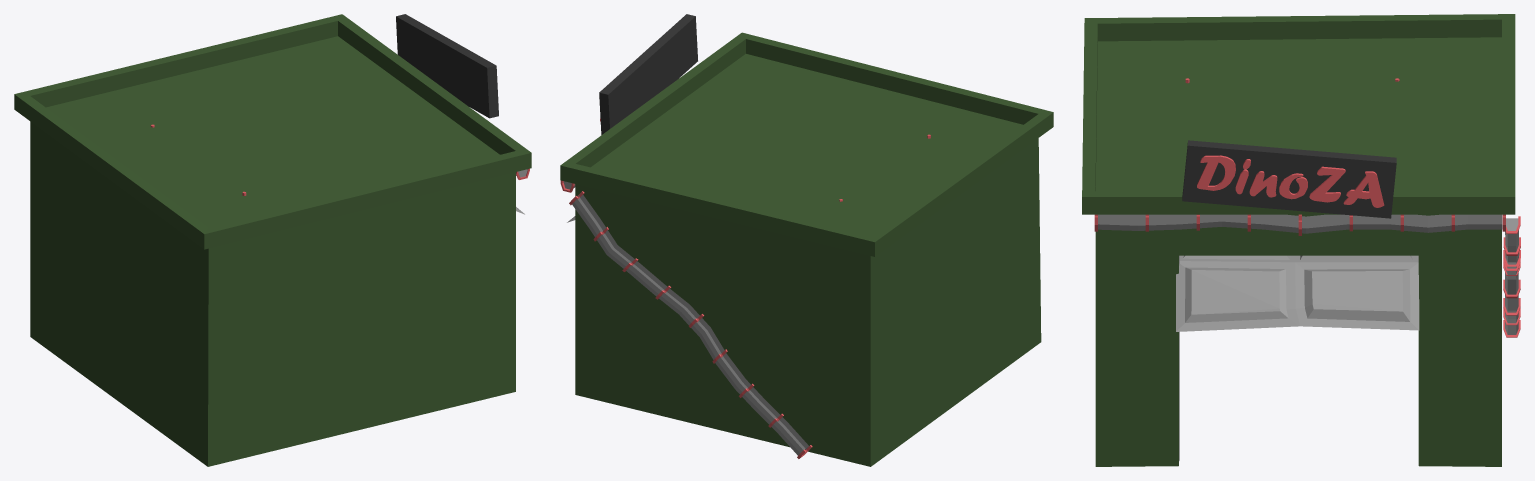
Rendered from Room2_Everett.fbx.
3 views of the same model, side by side, from view 1: azimuth 30°, elevation 25°; view 2: azimuth 150°, elevation 25°; view 3: azimuth 270°, elevation 25° (orthographic). The views are drawn at different scales.
Visible parts, largest first — view 1: TheGarage; view 2: TheGarage; view 3: TheGarage.
Part boxes in pixels (bbox=[...]): TheGarage: bbox=[14, 14, 531, 466]; TheGarage: bbox=[560, 14, 1053, 466]; TheGarage: bbox=[1082, 14, 1520, 466].
Size of the model in its own units: 718 by 556 by 655.
